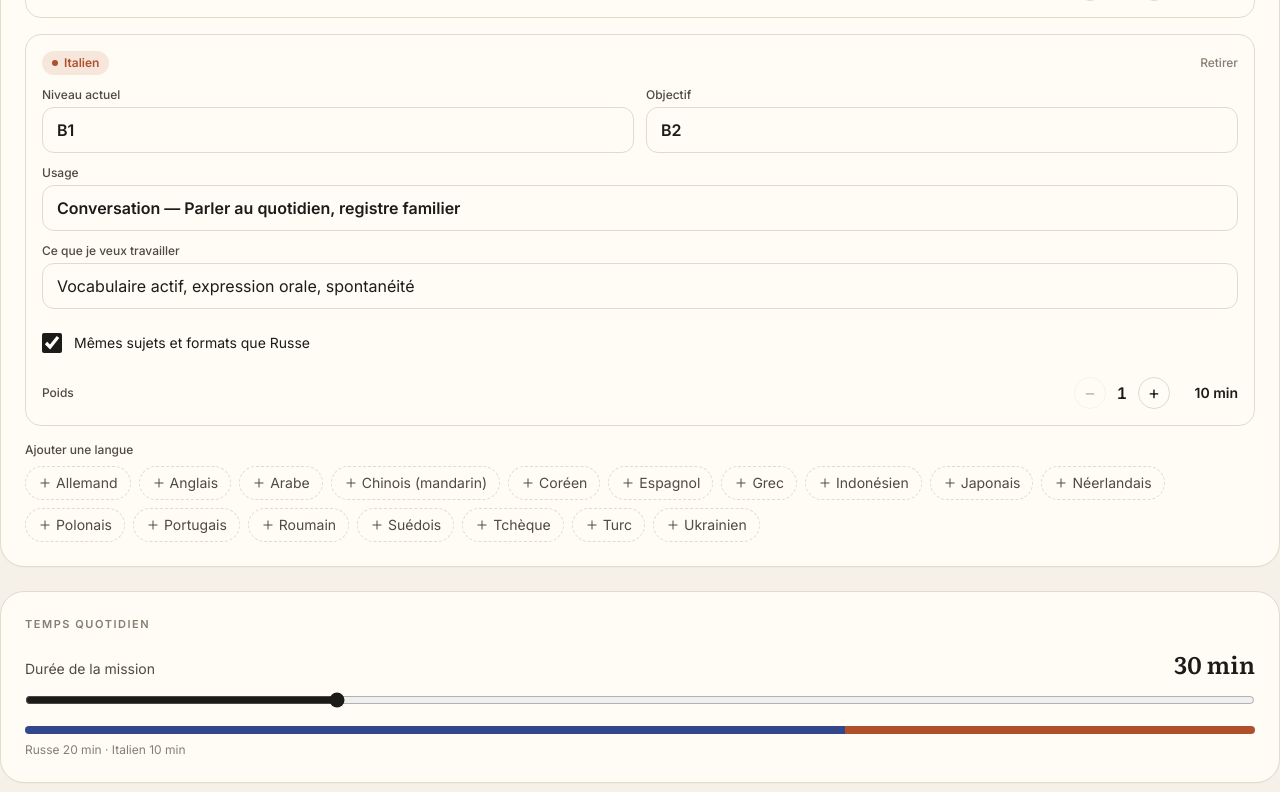
Test: PreferencesForm › shows the 20/10 split by default and updates it with the weights
The image size is (1280, 792).
(page scrolled)
Click the button named "Augmenter" at (1154, 392), box x1=1138 y1=376 x2=1170 y2=408
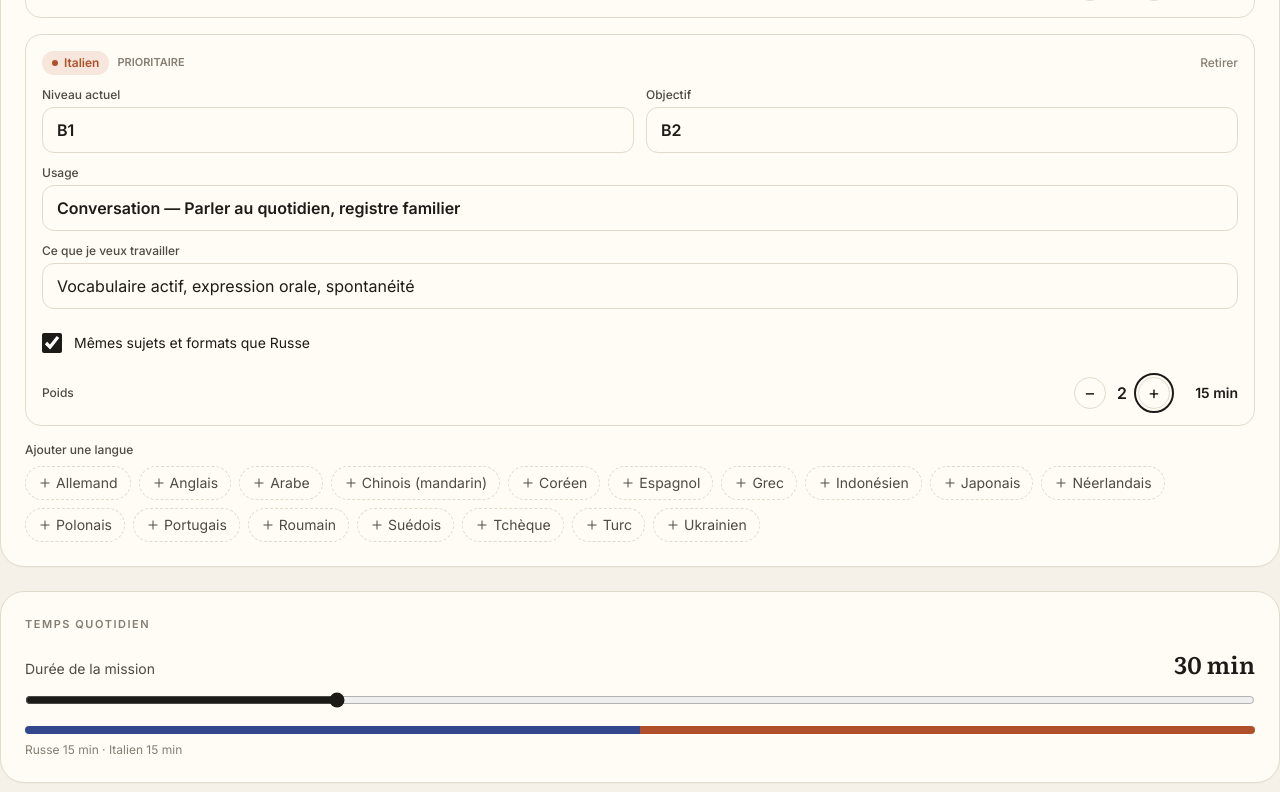
Expected: the text "Russe 15 min · Italien 15 min" is shown, x1=25 y1=742 x2=182 y2=757
